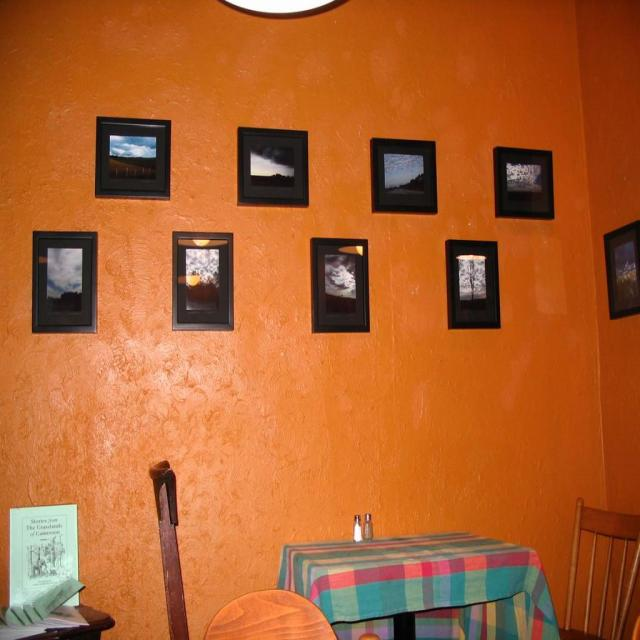table: (236, 523, 568, 640)
